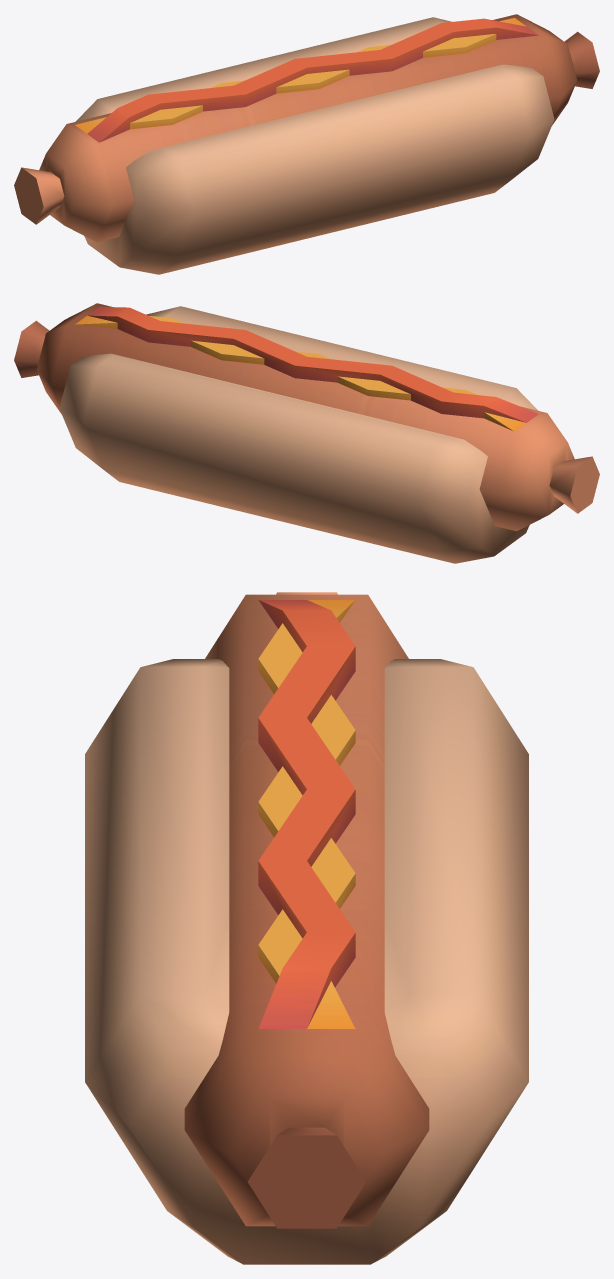
The model's file is hot_dog.glb.
The picture shows the model from 3 angles, top to bottom: view 1: azimuth 30°, elevation 25°; view 2: azimuth 150°, elevation 25°; view 3: azimuth 270°, elevation 25°; orthographic projection. The views are drawn at different scales.
Visible parts, largest first — view 1: hot-dog; view 2: hot-dog; view 3: hot-dog.
Boxes of the visible parts, box(x1,y1,x2,y2) form: hot-dog: box(14, 14, 599, 274); hot-dog: box(14, 303, 599, 563); hot-dog: box(85, 592, 528, 1264).
Size of the model in its own units: 0.5859 by 0.1526 by 0.2026.
1 material, 1 textured.
